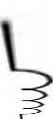inductor: (15, 61, 51, 113)
